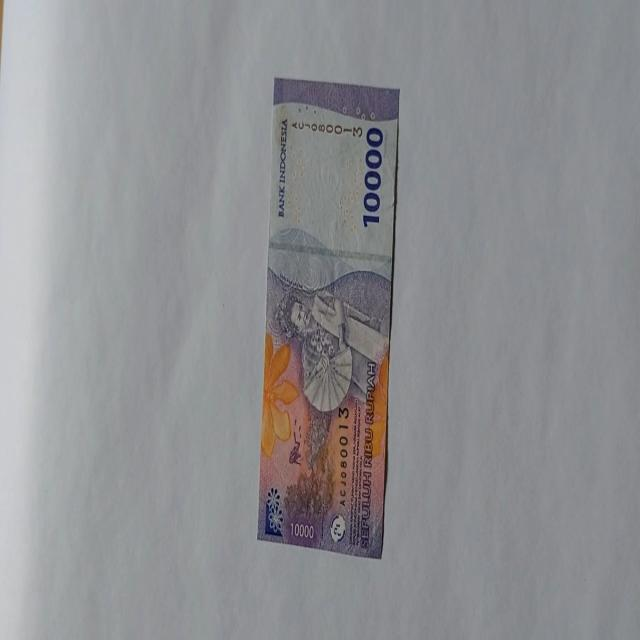sepuluh ribu rupiah: (256, 77, 400, 560)
